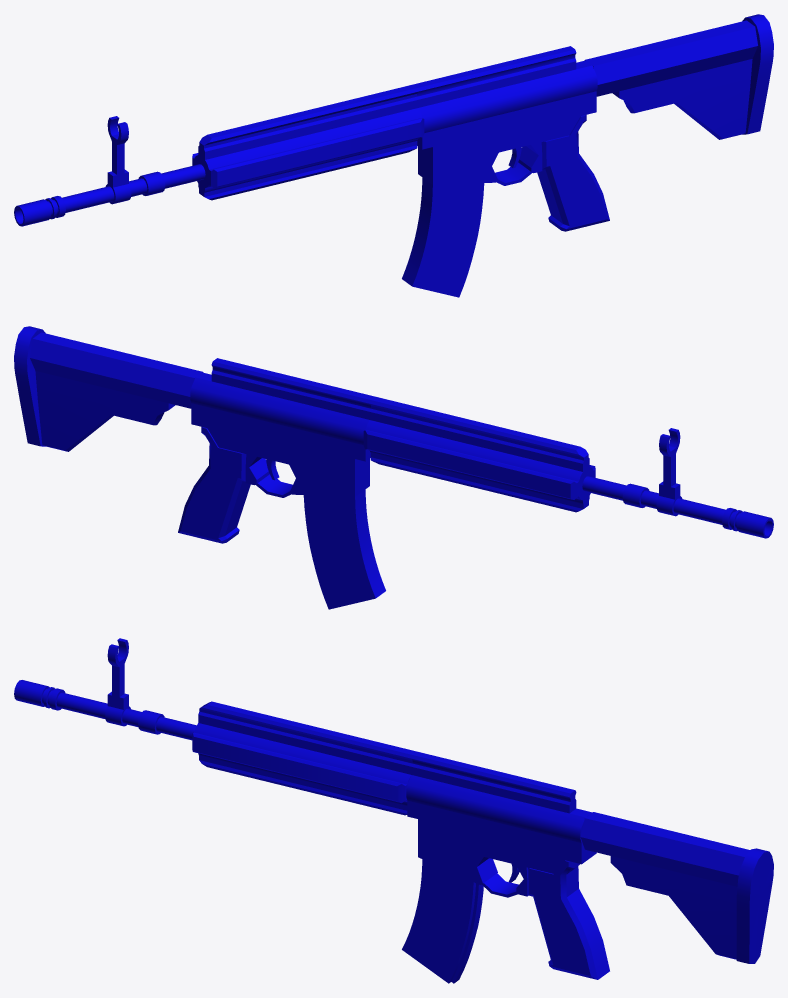
3 renders of one model, top to bottom at view 1: azimuth 30°, elevation 25°; view 2: azimuth 150°, elevation 25°; view 3: azimuth 330°, elevation 25°, orthographic.
Visible parts, largest first — view 1: reciever, quadrail, Cylinder.001, magazine, Cube, barrel, barrel.002, flashhider, Cylinder; view 2: reciever, quadrail, Cylinder.001, magazine, Cube, barrel, barrel.002, flashhider, Cylinder; view 3: reciever, quadrail, Cylinder.001, magazine, Cube, barrel, barrel.002, Cylinder, flashhider.
Boxes of the visible parts, x1,y1,x2,y2 form: reciever: (413, 46, 597, 185); quadrail: (192, 84, 424, 200); Cylinder.001: (611, 14, 773, 139); magazine: (402, 177, 484, 297); Cube: (537, 115, 609, 231); barrel: (62, 164, 205, 212); barrel.002: (105, 116, 131, 204); flashhider: (14, 196, 65, 226); Cylinder: (584, 53, 623, 96); reciever: (190, 358, 374, 497); quadrail: (363, 396, 595, 512); Cylinder.001: (14, 326, 176, 451); magazine: (303, 489, 385, 609); Cube: (178, 427, 250, 543); barrel: (582, 476, 725, 524); barrel.002: (656, 428, 682, 516); flashhider: (722, 508, 773, 538); Cylinder: (164, 365, 203, 408); reciever: (406, 751, 596, 897); quadrail: (192, 701, 416, 815); Cylinder.001: (606, 818, 773, 963); magazine: (402, 859, 483, 983); Cube: (528, 860, 609, 979); barrel: (56, 692, 196, 740); barrel.002: (105, 638, 130, 726); Cylinder: (580, 812, 618, 855); flashhider: (14, 680, 65, 710).
Size of the model in its own units: 84.6 by 27.83 by 4.63.
